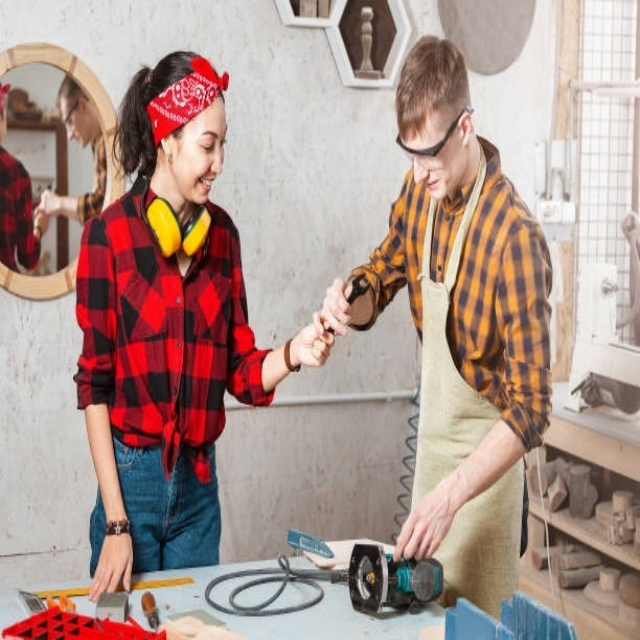Gafas: (398, 105, 472, 158)
Sin_gafas: (189, 122, 228, 155)
Sin_guantes: (292, 270, 353, 372), (390, 480, 456, 568), (86, 529, 133, 604)
Sin_mascara: (416, 168, 448, 199), (186, 171, 219, 201)
